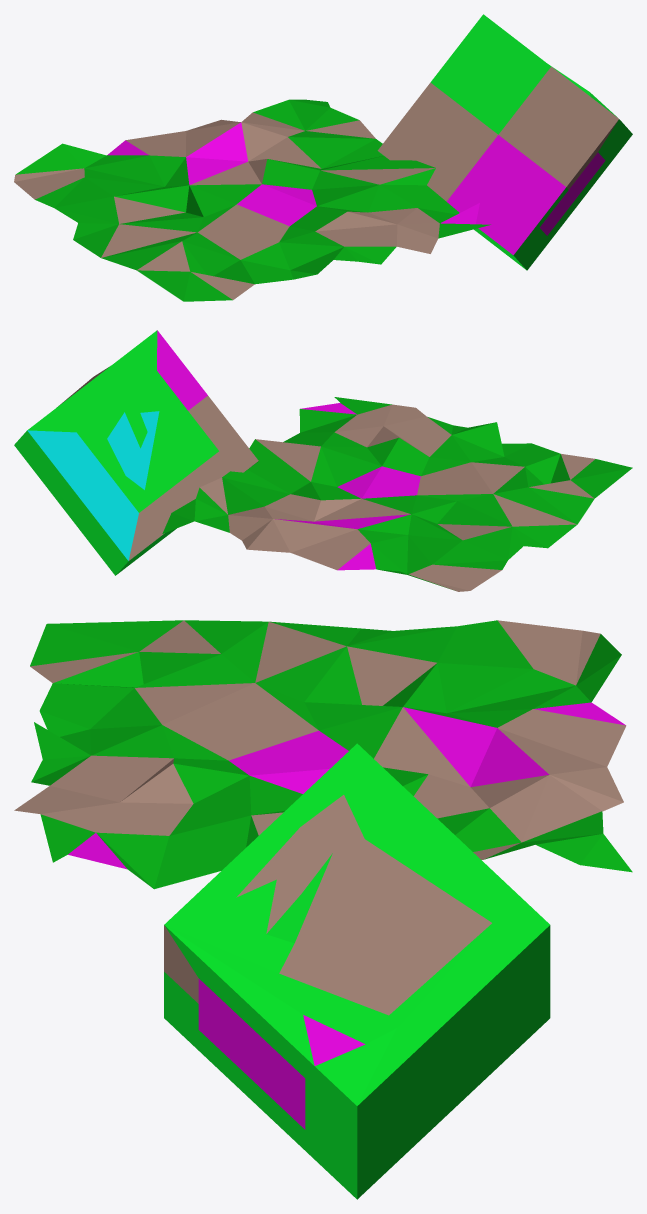
The picture shows the model from 3 angles, top to bottom: view 1: azimuth 30°, elevation 25°; view 2: azimuth 150°, elevation 25°; view 3: azimuth 270°, elevation 25°; orthographic projection. The views are drawn at different scales.
Parts seen in each view (by area): view 1: Plane, Cube; view 2: Plane, Cube; view 3: Plane, Cube.
Boxes of the visible parts, left/top/right/bottom form: Plane: left=14, top=99, right=490, bottom=301; Cube: left=377, top=14, right=632, bottom=270; Plane: left=162, top=397, right=632, bottom=591; Cube: left=14, top=330, right=258, bottom=575; Plane: left=14, top=620, right=632, bottom=889; Cube: left=164, top=743, right=550, bottom=1199.
Bounding box in the file's own units: 749 × 341 × 453.
